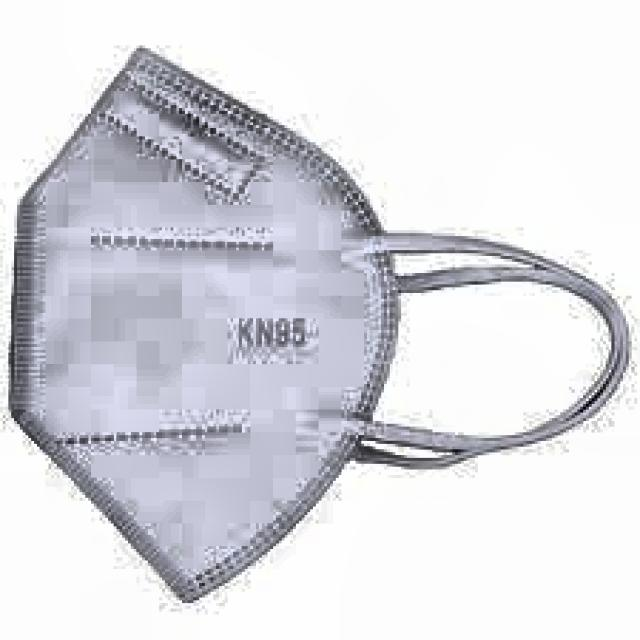trash: (0, 46, 629, 593)
